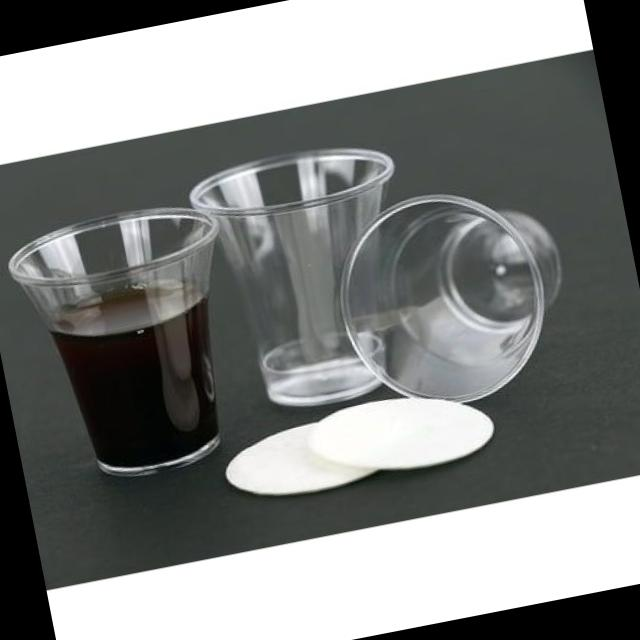GelasPlastik: (2, 192, 265, 493), (185, 135, 429, 425), (322, 168, 586, 422)
